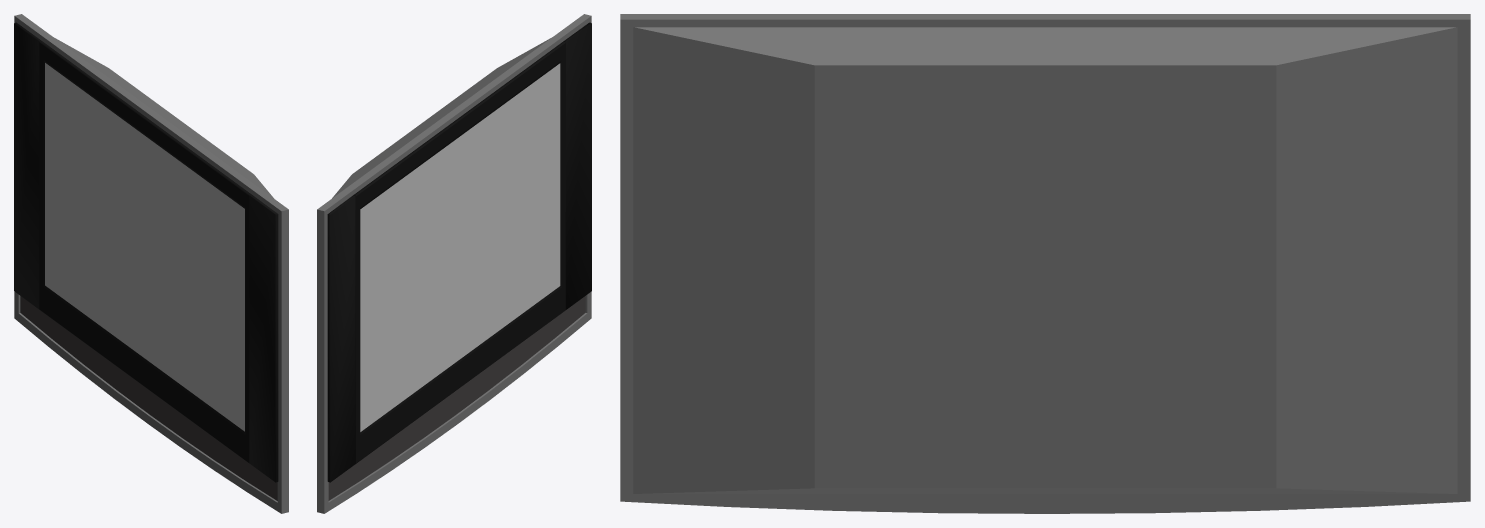
The picture shows the model from 3 angles, left to right: view 1: azimuth 30°, elevation 25°; view 2: azimuth 150°, elevation 25°; view 3: azimuth 270°, elevation 25°; orthographic projection. The views are drawn at different scales.
Parts seen in each view (by area): view 1: tv; view 2: tv; view 3: tv.
Boxes of the visible parts, x1=… form: tv: x1=14, y1=14, x2=288, y2=513; tv: x1=317, y1=14, x2=591, y2=513; tv: x1=620, y1=14, x2=1470, y2=513.
Size of the model in its own units: 10.98 by 138 by 88.32.
